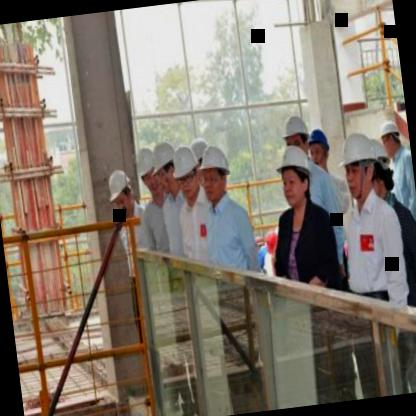helmet: (336, 126, 386, 208), (273, 137, 317, 209), (272, 141, 316, 207), (197, 141, 234, 202), (364, 132, 396, 202), (371, 107, 405, 164), (148, 137, 178, 199), (134, 139, 163, 203), (174, 141, 204, 200), (282, 112, 312, 160), (306, 124, 333, 171), (108, 166, 134, 213)
